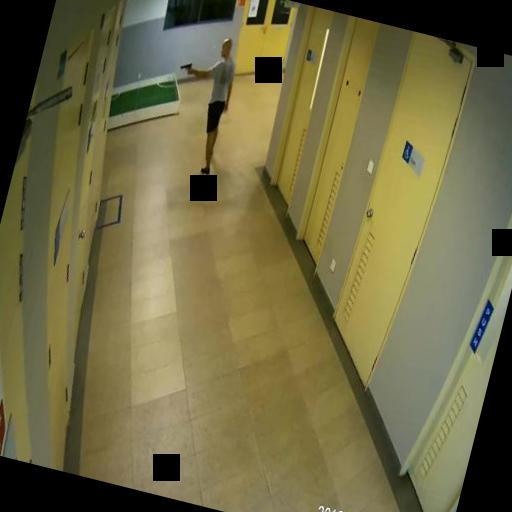Handgun: (178, 58, 192, 74)
